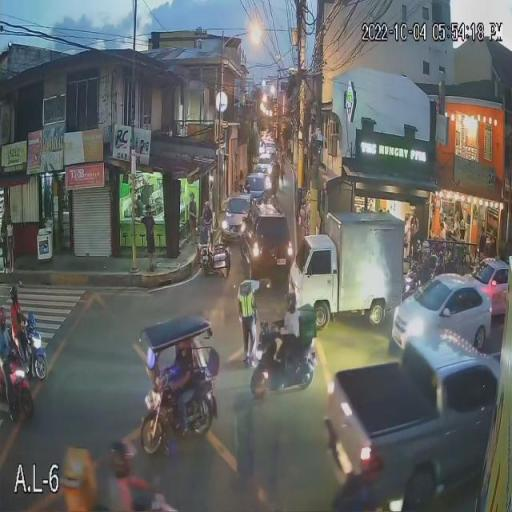helmet: (8, 284, 22, 304), (284, 292, 297, 306)
motorcycle: (140, 345, 219, 456), (250, 322, 318, 400), (0, 348, 34, 421), (16, 314, 50, 382), (202, 240, 231, 278)
rider: (265, 293, 303, 373), (158, 336, 197, 408), (0, 313, 27, 373), (10, 294, 38, 348)
